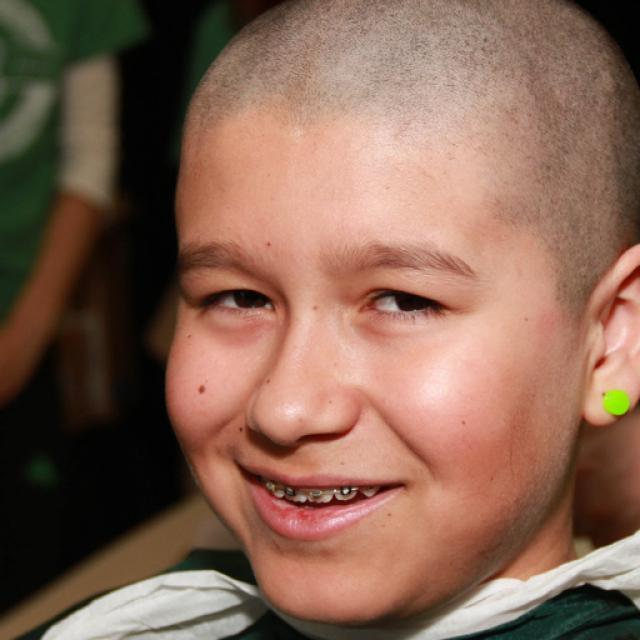happy: (158, 61, 576, 621)
